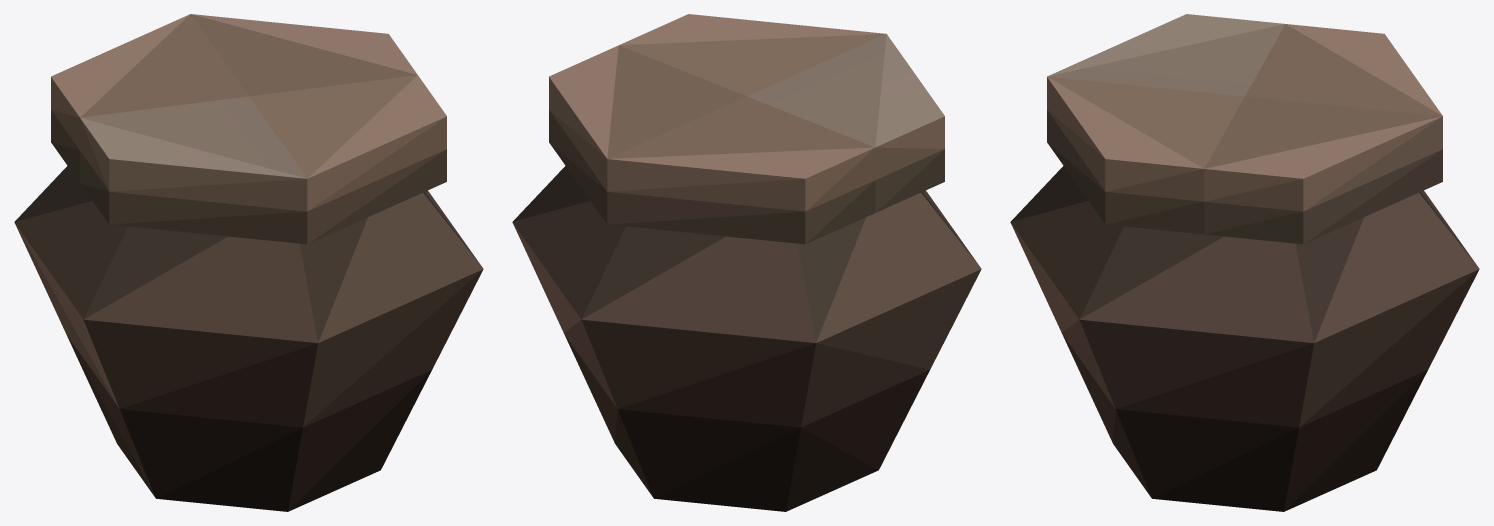
Rendered from prop_container_vase_5.fbx.
3 renders of one model, left to right at view 1: azimuth 30°, elevation 25°; view 2: azimuth 150°, elevation 25°; view 3: azimuth 270°, elevation 25°, orthographic.
Visible parts, largest first — view 1: prop_container_vase_5; view 2: prop_container_vase_5; view 3: prop_container_vase_5.
Boxes of the visible parts, x1=… form: prop_container_vase_5: x1=14, y1=14, x2=483, y2=511; prop_container_vase_5: x1=512, y1=14, x2=981, y2=511; prop_container_vase_5: x1=1010, y1=14, x2=1479, y2=511.
Size of the model in its own units: 0.3599 by 0.31 by 0.3656.
